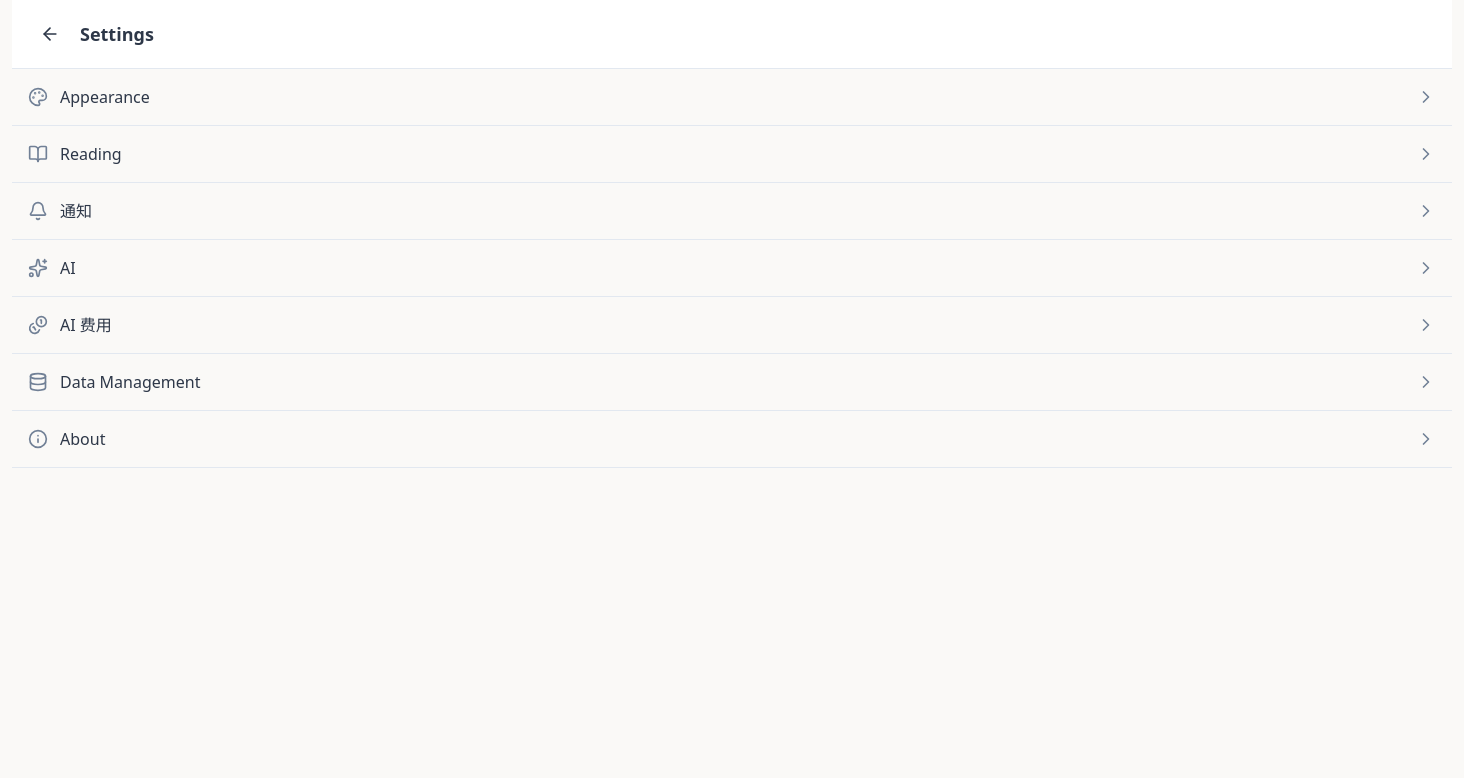
it: MobileSettingsPanel › Settings Groups (Accordion) › should collapse accordion when clicking on expanded group
Click the button "Appearance" at point(105, 97), box [12,69,1452,125]
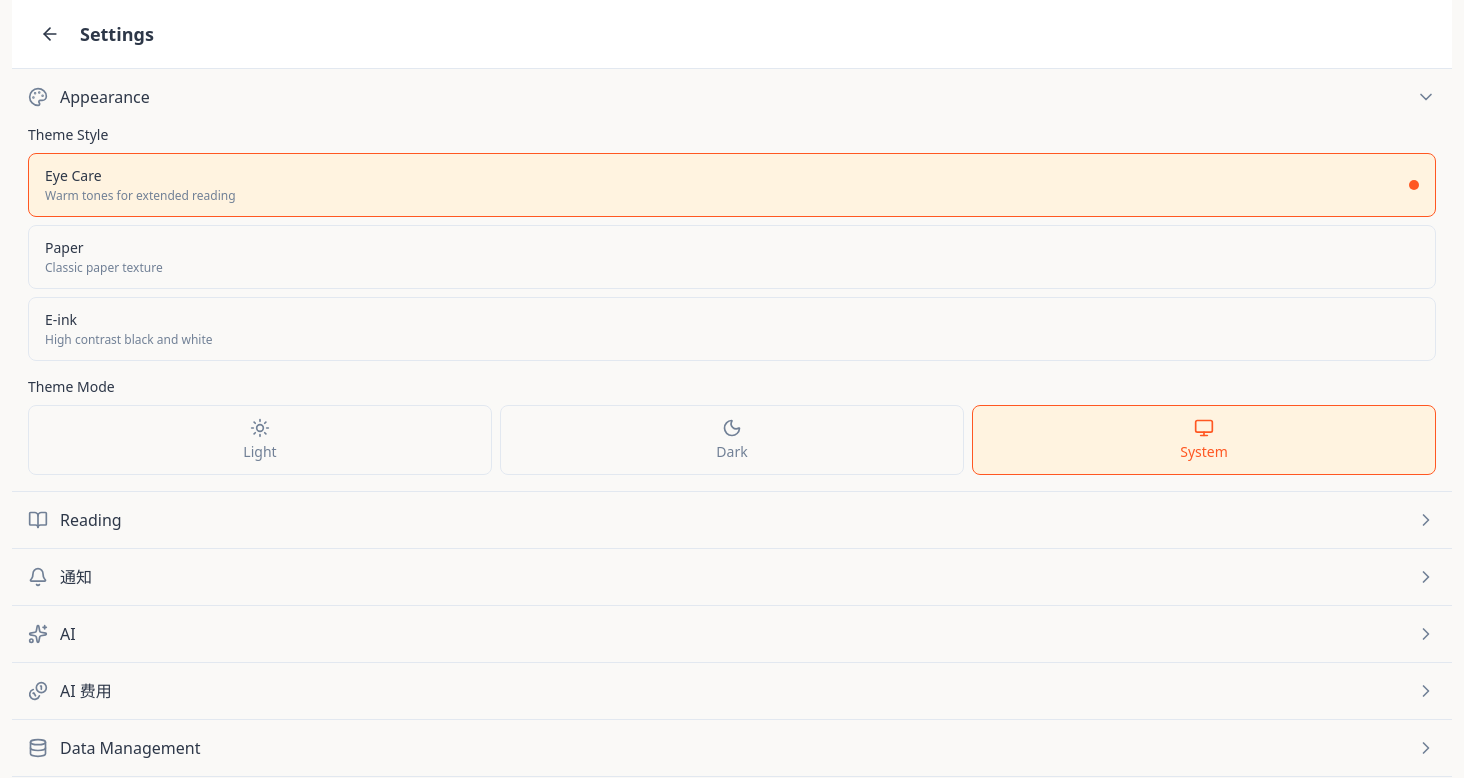
Expected: the heading "Theme Style" is shown, [28,125,108,144]
Click the button "Appearance" at point(105, 97), box [12,69,1452,125]
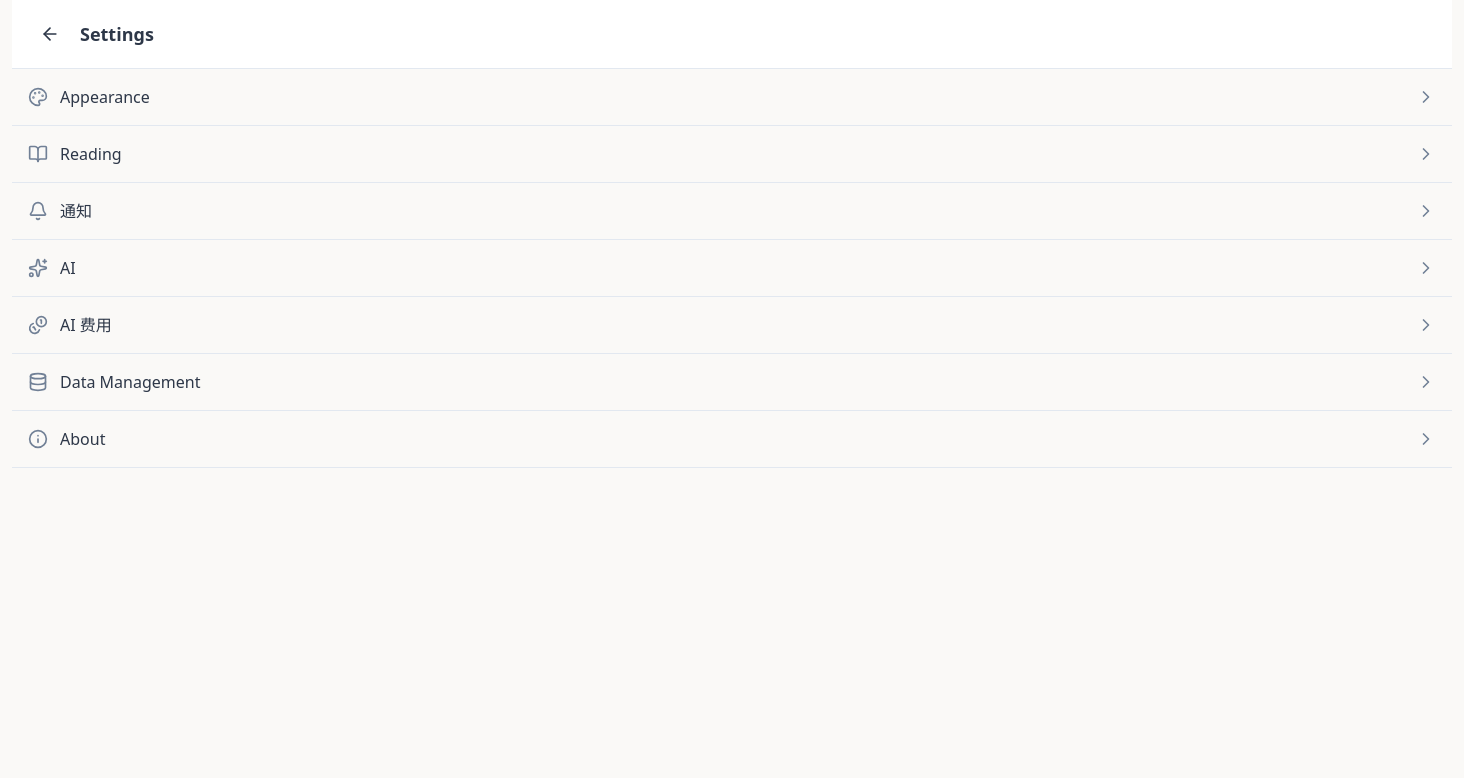
Expected: the heading "Theme Style" is gone
